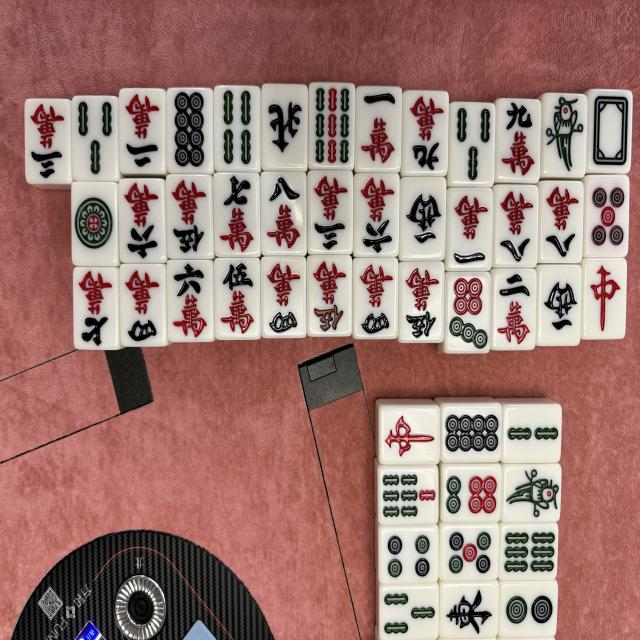hdr: (380, 407, 441, 465), (584, 259, 627, 339)
hdw: (589, 88, 632, 174)
hwe: (440, 584, 498, 637)
hwn: (262, 83, 308, 167)
hww: (400, 176, 446, 258), (538, 266, 580, 347)
sb1: (542, 93, 586, 177), (504, 465, 561, 522)
sb2: (504, 404, 562, 464)
sb3: (72, 96, 118, 182), (449, 101, 494, 186), (380, 584, 438, 640)
sb4: (214, 86, 261, 172)
sb6: (499, 525, 559, 581)
sb7: (378, 467, 439, 525)
sb9: (308, 82, 354, 168)
sc1: (356, 86, 402, 170), (447, 188, 491, 272)
sc2: (119, 89, 165, 174), (493, 268, 536, 350)
sc3: (24, 99, 72, 184), (308, 170, 353, 254)
sc4: (119, 264, 166, 346), (260, 256, 306, 339), (352, 257, 398, 340)
sc5: (166, 175, 213, 259), (214, 258, 260, 340), (398, 261, 444, 343), (307, 256, 351, 336)
sc6: (118, 178, 165, 264), (166, 260, 213, 342), (354, 173, 398, 256)
sc7: (214, 173, 261, 257), (73, 267, 117, 349)
sc8: (539, 180, 583, 264), (493, 185, 538, 267), (262, 171, 306, 254)
sc9: (402, 90, 448, 175), (496, 98, 541, 183)
sd1: (71, 182, 118, 266)
sd2: (499, 582, 558, 637)
sd4: (379, 527, 438, 583)
sd5: (586, 175, 628, 257), (440, 525, 498, 580)
sd6: (443, 466, 500, 524)
sd7: (446, 272, 492, 354)
sd8: (166, 87, 213, 174), (442, 405, 501, 462)
